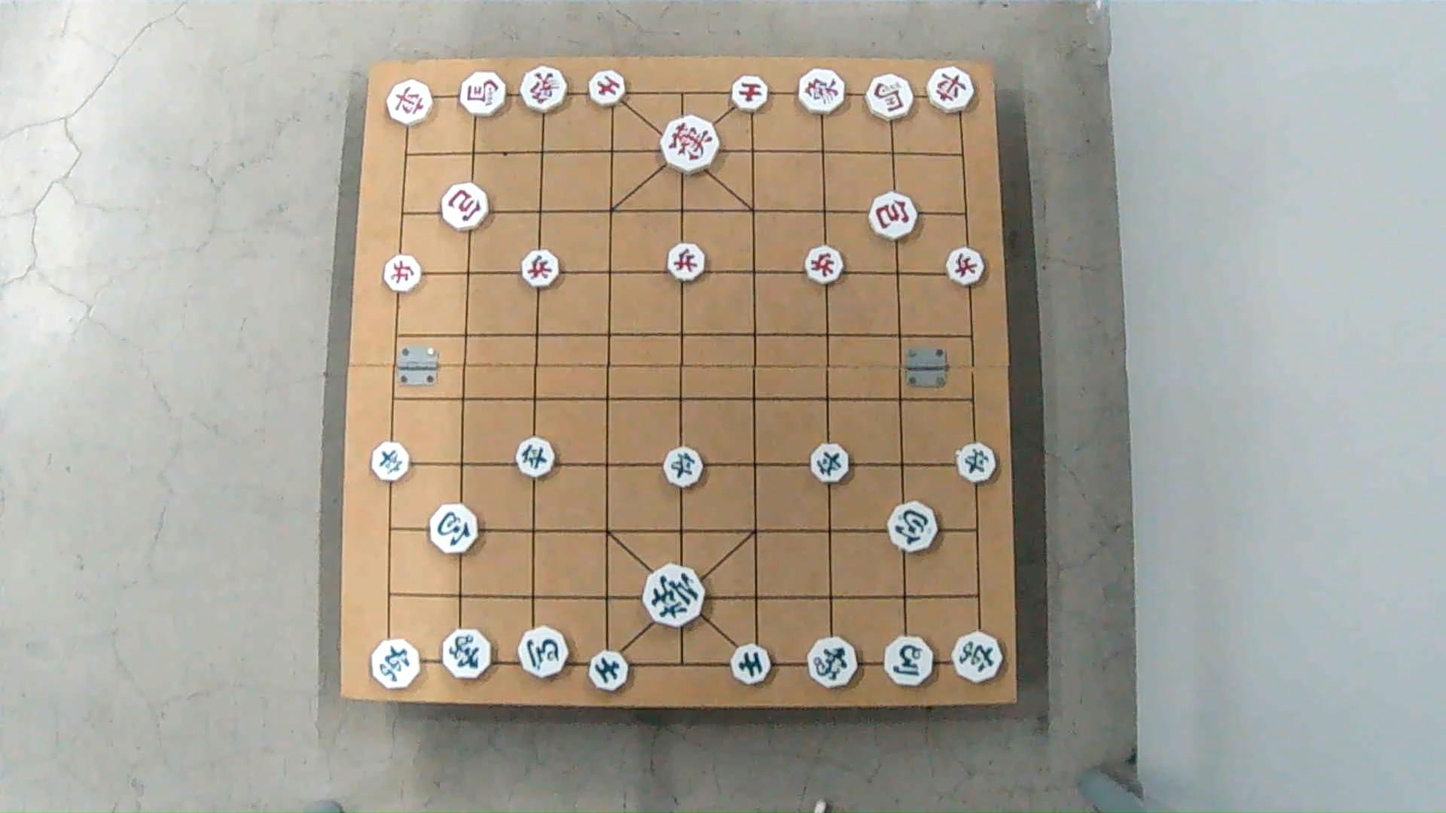cha_green: (950, 630, 1005, 687), (370, 639, 422, 692)
cha_red: (927, 69, 975, 112), (386, 81, 434, 123)
jol_green: (666, 447, 706, 486), (807, 444, 847, 483), (954, 444, 995, 482), (518, 439, 558, 477), (372, 443, 412, 480)
jol_red: (522, 251, 562, 288), (664, 245, 703, 282), (804, 248, 844, 284), (946, 250, 987, 285), (383, 257, 423, 292)
ma_green: (880, 633, 941, 690), (517, 624, 571, 679)
ma_red: (459, 69, 509, 118), (867, 75, 917, 119)
po_green: (886, 505, 938, 553), (427, 506, 477, 551)
po_red: (869, 193, 919, 239), (443, 185, 490, 230)
sa_green: (729, 642, 775, 688), (590, 653, 630, 692)
sa_red: (731, 75, 771, 109), (591, 72, 630, 105)
sang_green: (804, 631, 863, 692), (443, 629, 492, 684)
sang_red: (797, 65, 850, 117), (516, 66, 571, 114)
wang_green: (643, 565, 705, 625)
wang_red: (663, 118, 721, 172)
